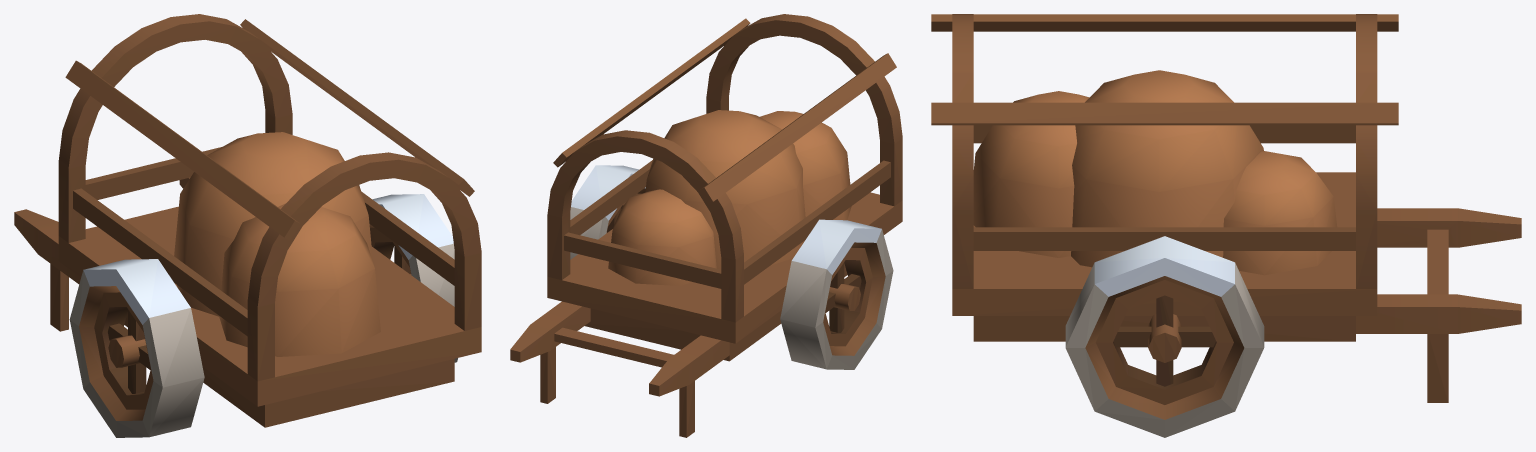
File: kenney_town_cart_high.glb
3 renders of one model, left to right at view 1: azimuth 30°, elevation 25°; view 2: azimuth 150°, elevation 25°; view 3: azimuth 270°, elevation 25°, orthographic. The views are drawn at different scales.
Parts seen in each view (by area): view 1: wood, stone, cloth; view 2: wood, stone, cloth; view 3: wood, stone, cloth.
Part boxes in pixels (x1,y1,x2,y2): wood: (14,14,481,427); stone: (69,243,457,437); cloth: (83,194,453,324); wood: (510,14,902,437); stone: (570,207,893,369); cloth: (571,165,881,274); wood: (931,14,1521,419); stone: (1065,262,1264,437); cloth: (1094,236,1234,296).
Bounding box in the file's own units: 0.893 × 0.8605 × 1.39.
